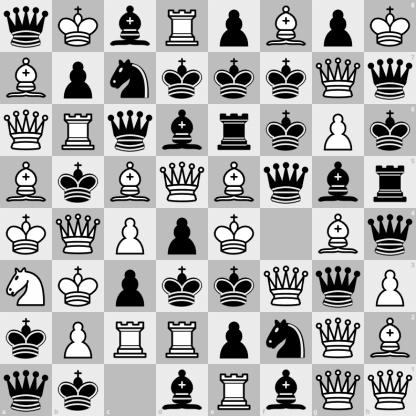B: (364, 312, 416, 364), (1, 53, 52, 104), (1, 157, 52, 208), (105, 157, 156, 208), (209, 157, 260, 208), (261, 1, 312, 52), (313, 209, 364, 260)
K: (364, 0, 416, 52), (1, 209, 52, 260), (53, 1, 104, 52), (53, 261, 104, 312), (209, 209, 260, 260)
N: (1, 261, 52, 312)
P: (364, 260, 416, 312), (53, 313, 104, 364), (105, 209, 156, 260), (313, 105, 364, 156)
Q: (312, 364, 364, 416), (364, 364, 416, 416), (1, 105, 52, 156), (53, 209, 104, 260), (157, 157, 208, 208), (261, 261, 312, 312), (313, 53, 364, 104), (313, 313, 364, 364)
R: (209, 364, 260, 416), (53, 105, 104, 156), (105, 313, 156, 364), (157, 1, 208, 52), (157, 313, 208, 364)
b: (156, 364, 209, 416), (260, 364, 312, 416), (105, 1, 156, 52), (157, 105, 208, 156), (313, 157, 364, 208)
board: (0, 0, 415, 415)
k: (52, 364, 104, 416), (364, 104, 416, 156), (1, 313, 52, 364), (53, 157, 104, 208), (157, 53, 208, 104), (157, 261, 208, 312), (209, 53, 260, 104), (209, 261, 260, 312), (261, 53, 312, 104), (261, 105, 312, 156)
n: (105, 53, 156, 104), (261, 313, 312, 364)
p: (53, 53, 104, 104), (105, 261, 156, 312), (157, 209, 208, 260), (209, 1, 260, 52), (209, 313, 260, 364), (313, 1, 364, 52)
q: (0, 364, 52, 416), (364, 52, 416, 104), (364, 209, 416, 260), (1, 1, 52, 52), (105, 105, 156, 156), (261, 157, 312, 208), (313, 261, 364, 312)
r: (364, 156, 416, 209), (209, 105, 260, 156)
